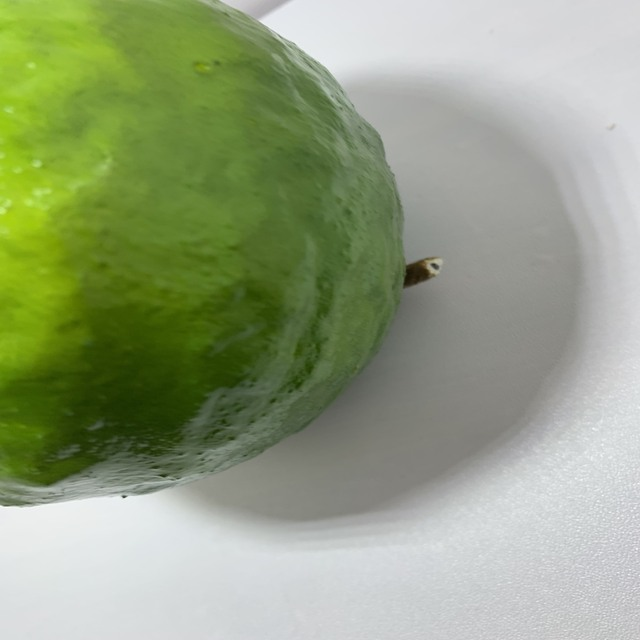Cam xanh: (0, 0, 419, 518)
